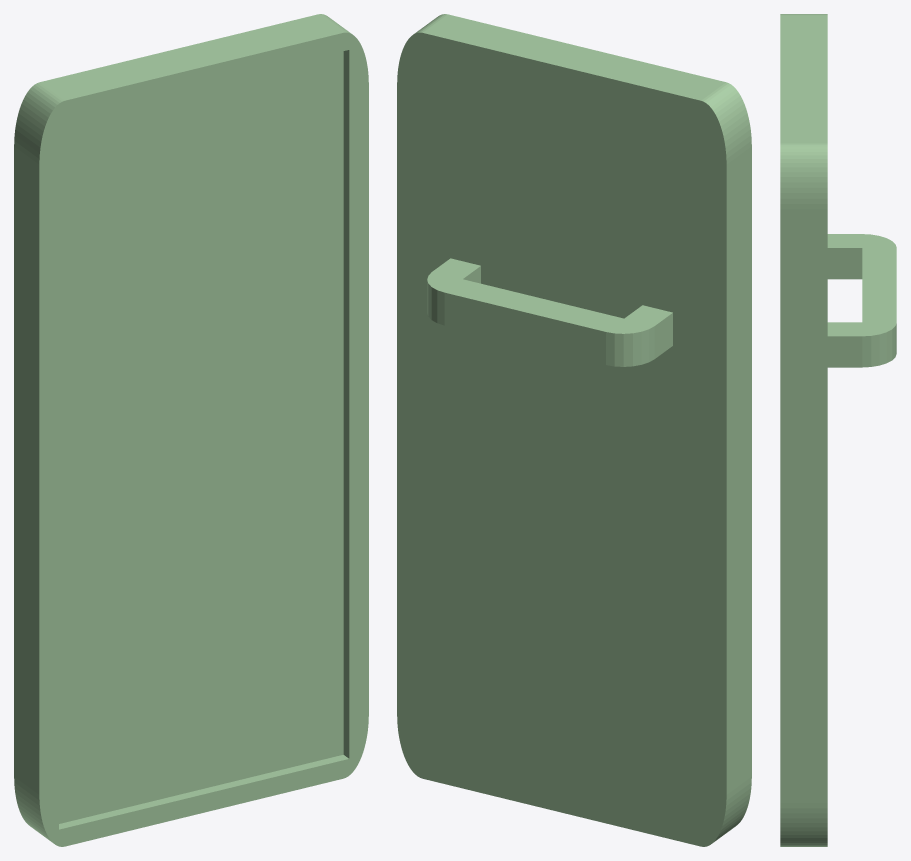
Rendered from Shield.fbx.
3 renders of one model, left to right at view 1: azimuth 30°, elevation 25°; view 2: azimuth 150°, elevation 25°; view 3: azimuth 270°, elevation 25°, orthographic. The views are drawn at different scales.
Visible parts, largest first — view 1: Cube; view 2: Cube; view 3: Cube.
Part boxes in pixels (<box>): Cube: <box>14,14,368,846</box>; Cube: <box>397,14,751,846</box>; Cube: <box>780,14,896,846</box>.
Bounding box in the file's own units: 168 × 364 × 54.74.
